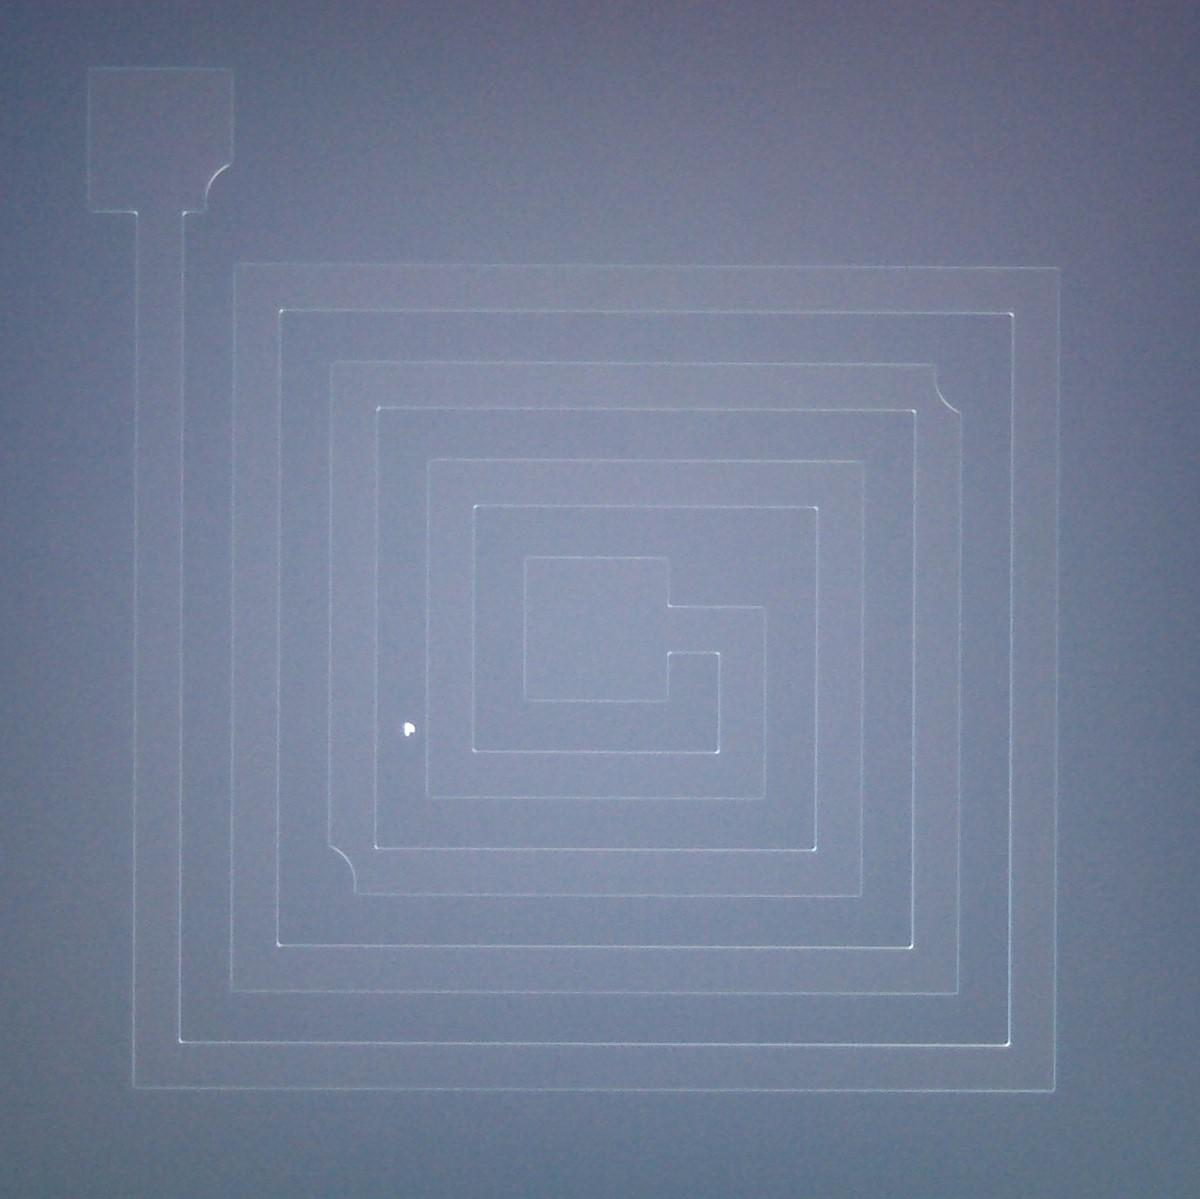B_point: (404, 721, 416, 737)
cut: (876, 347, 984, 451), (304, 818, 411, 910), (159, 141, 257, 234)
